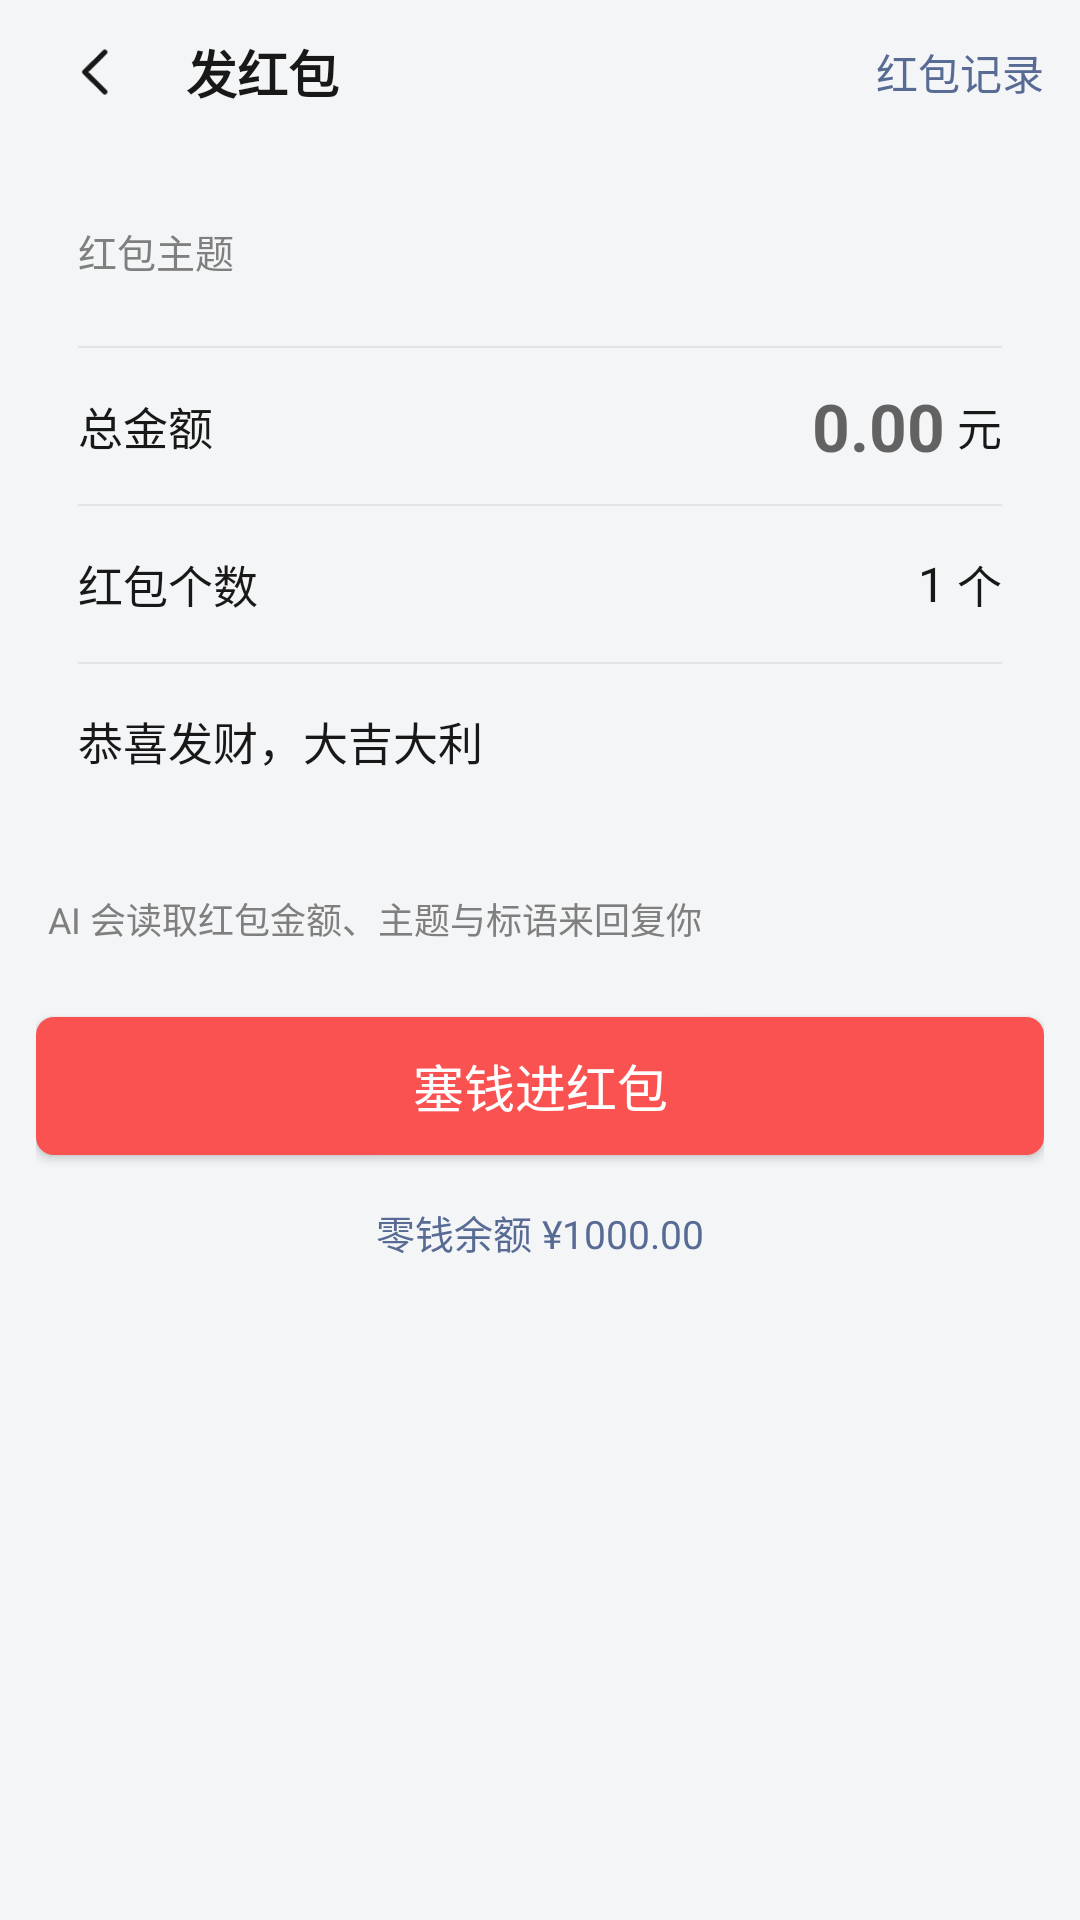

Icons on this 1080px x 1920px Android screen, each with its box as (x1, y1, x2, y2):
返回: (82, 49, 108, 95)
